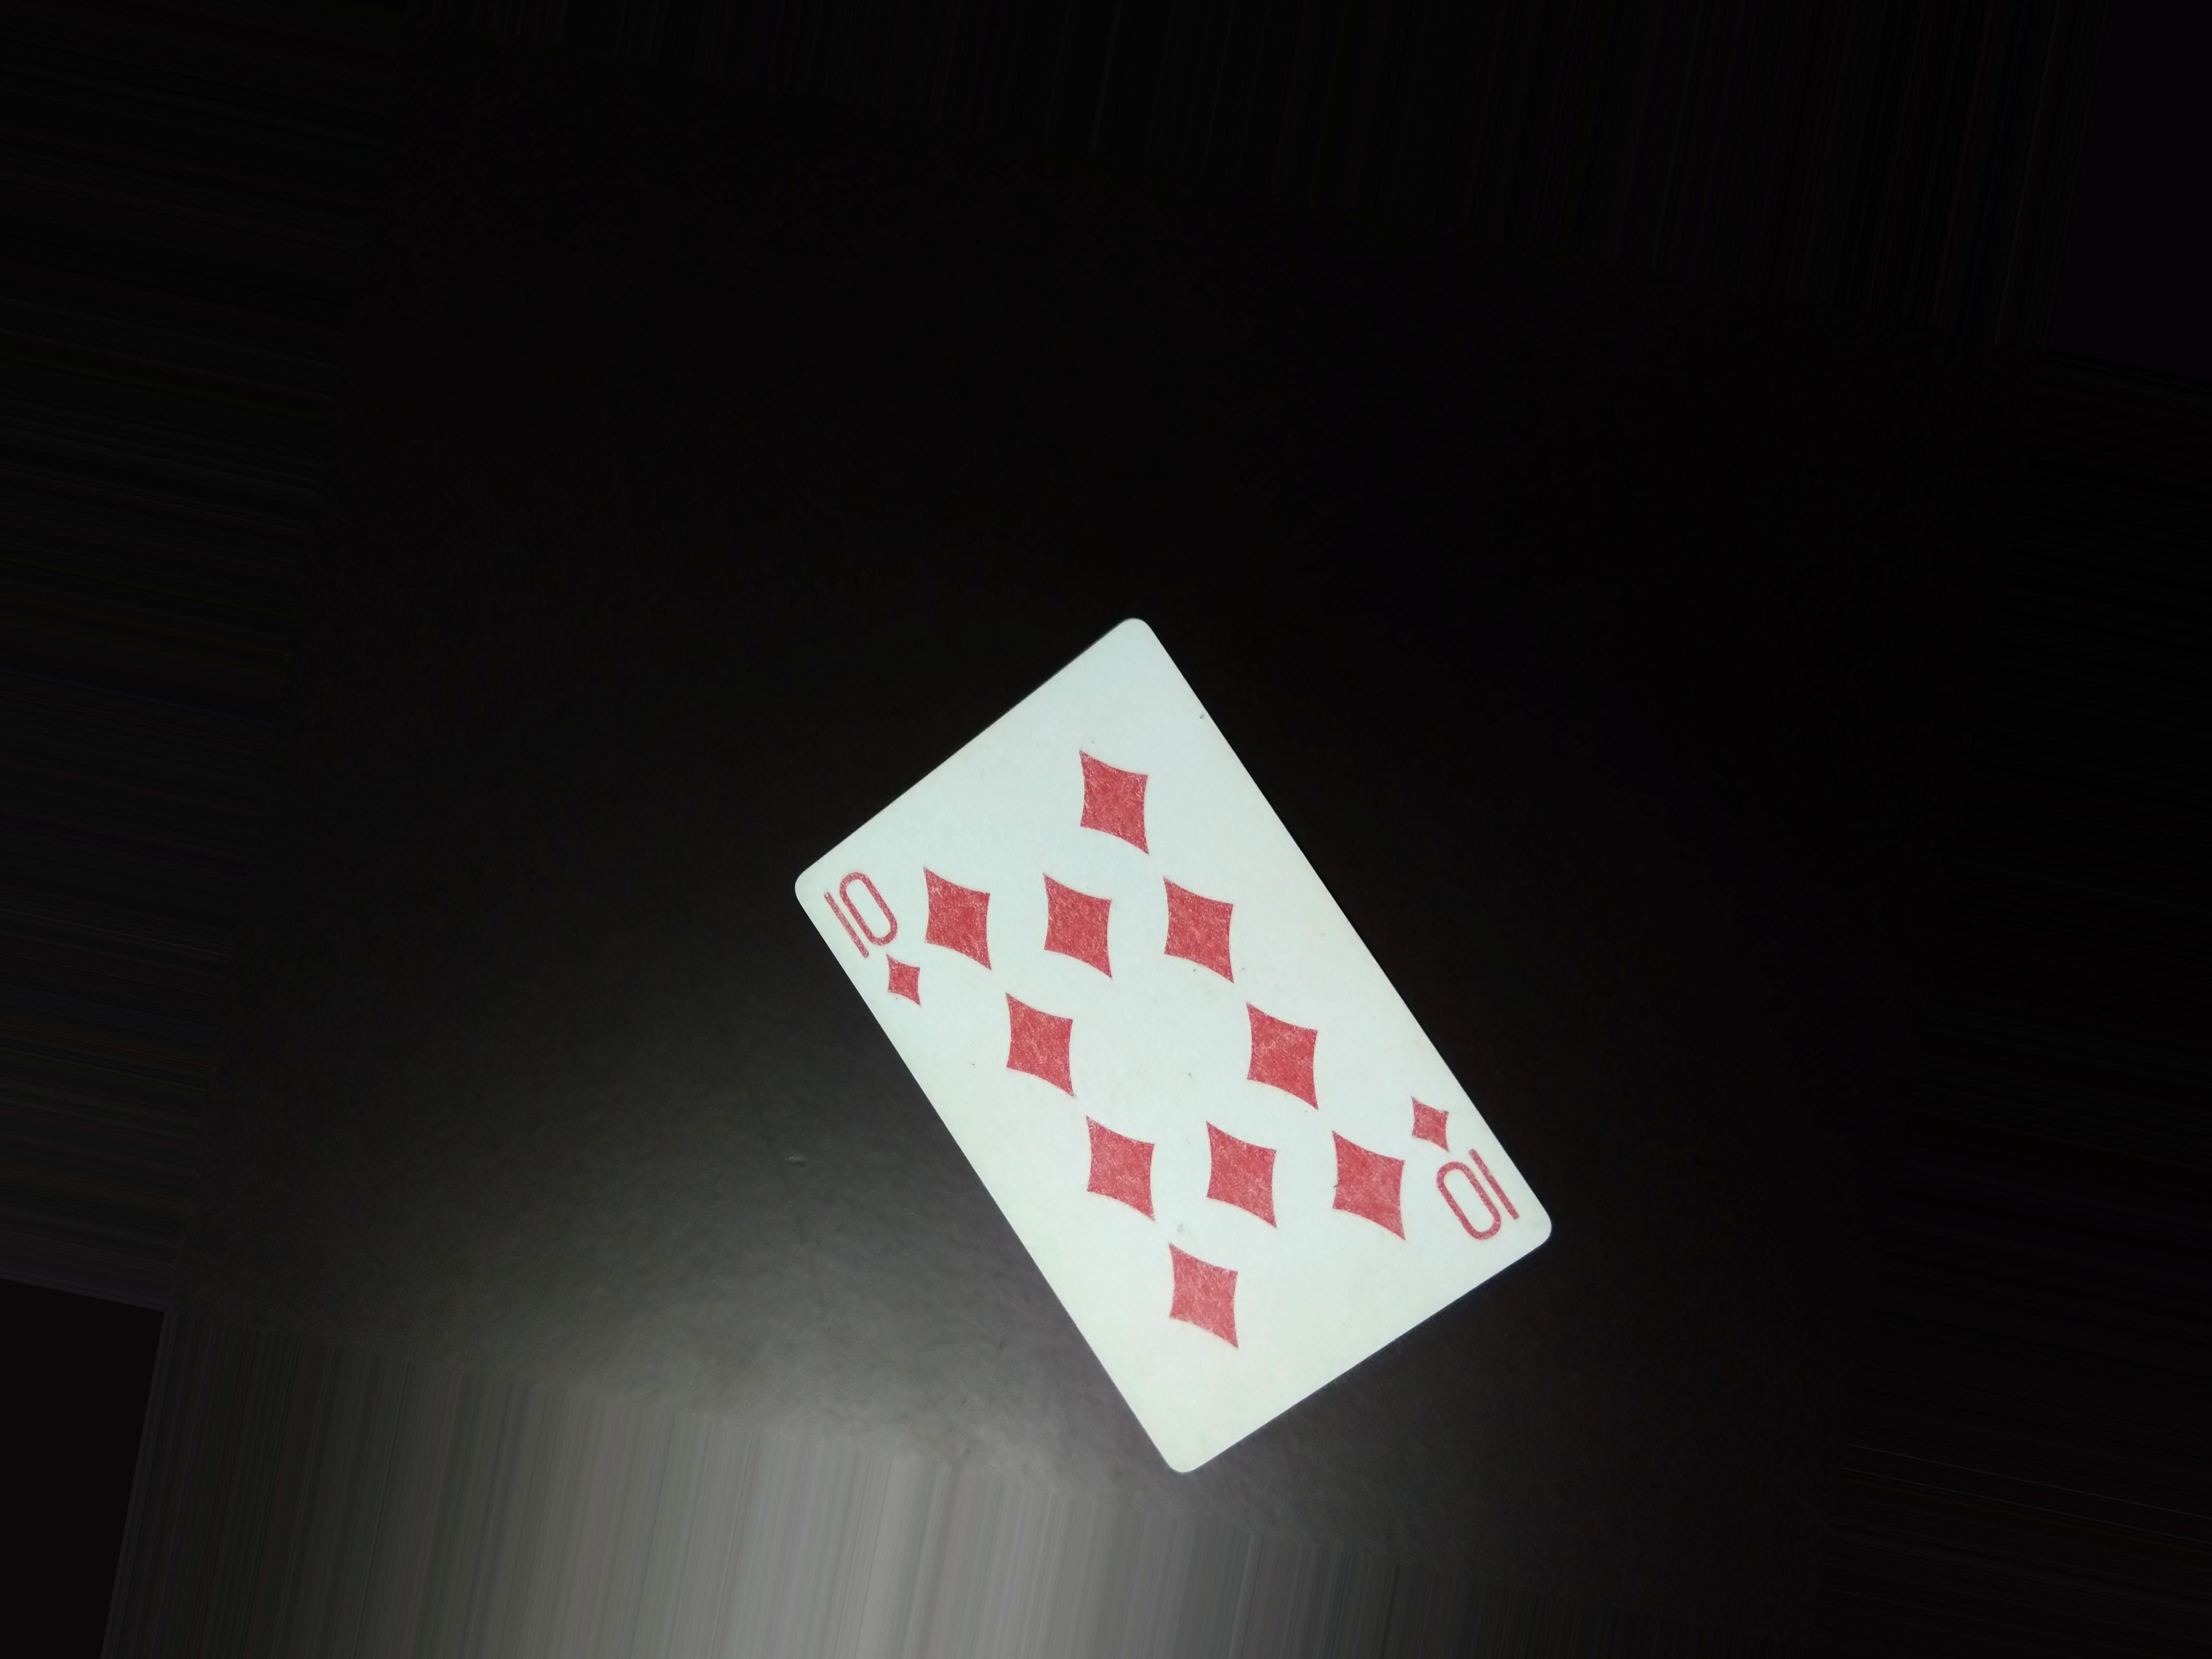10D: (824, 863, 944, 1025)
